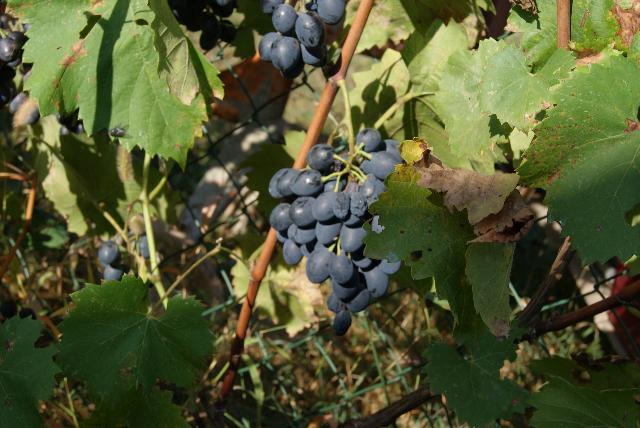grapes: (269, 128, 402, 336)
